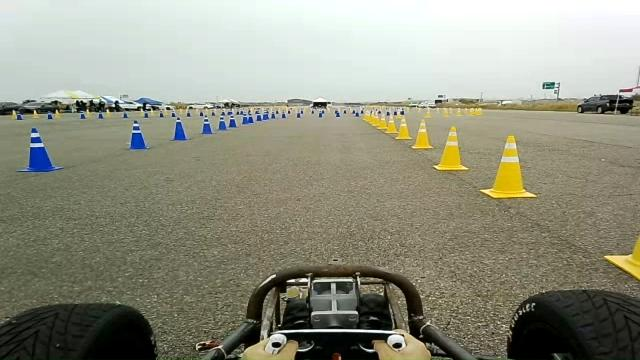blue cone: (16, 127, 64, 172), (125, 120, 151, 149), (169, 117, 190, 141), (198, 116, 214, 134), (215, 112, 228, 131), (228, 112, 238, 127), (97, 106, 106, 119), (18, 107, 26, 120), (247, 110, 254, 124), (121, 106, 129, 118), (240, 112, 248, 124), (46, 108, 54, 119), (79, 107, 86, 119), (143, 108, 149, 118)
yellow cone: (479, 134, 537, 199), (432, 126, 469, 170), (411, 119, 434, 149), (395, 119, 412, 139), (384, 118, 398, 133), (377, 112, 388, 129), (371, 112, 381, 125), (362, 111, 371, 121), (32, 109, 39, 119), (54, 109, 61, 118), (11, 109, 17, 119), (84, 107, 90, 116)
